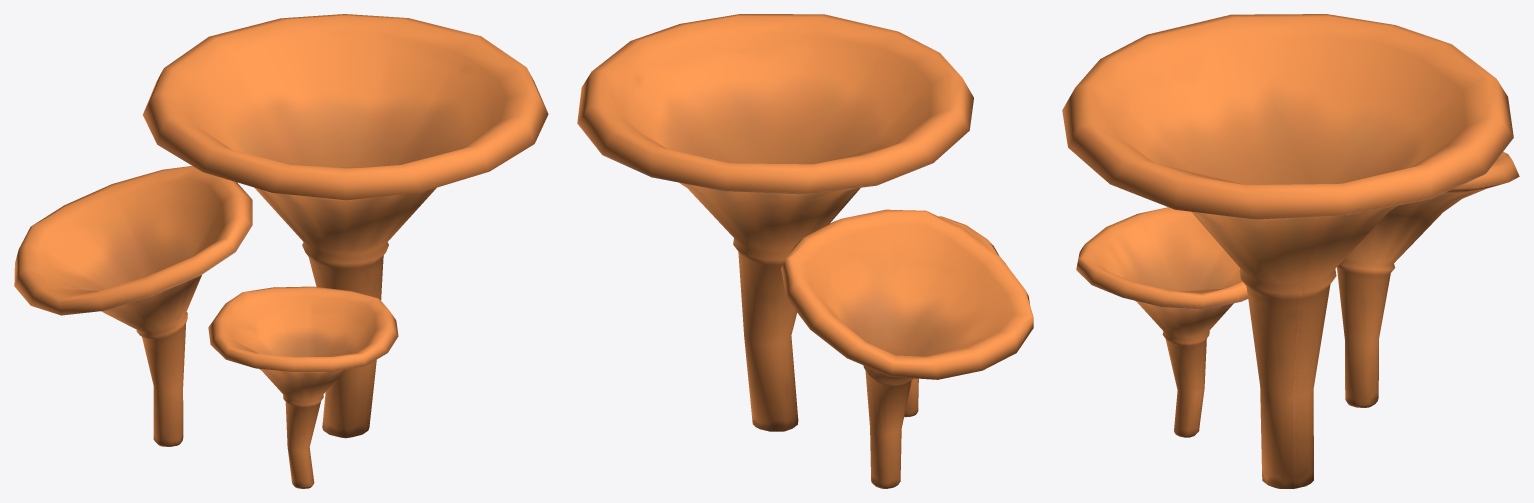
Rendered from mushroom6.glb.
3 renders of one model, left to right at view 1: azimuth 30°, elevation 25°; view 2: azimuth 150°, elevation 25°; view 3: azimuth 270°, elevation 25°, orthographic. The views are drawn at different scales.
Visible parts, largest first — view 1: Object_7; view 2: Object_7; view 3: Object_7.
Part boxes in pixels (<box>): Object_7: <box>14,14,548,488</box>; Object_7: <box>577,14,1033,488</box>; Object_7: <box>1062,14,1519,488</box>.
Size of the model in its own units: 0.9056 by 0.6458 by 0.7043.
1 material, 1 textured.
